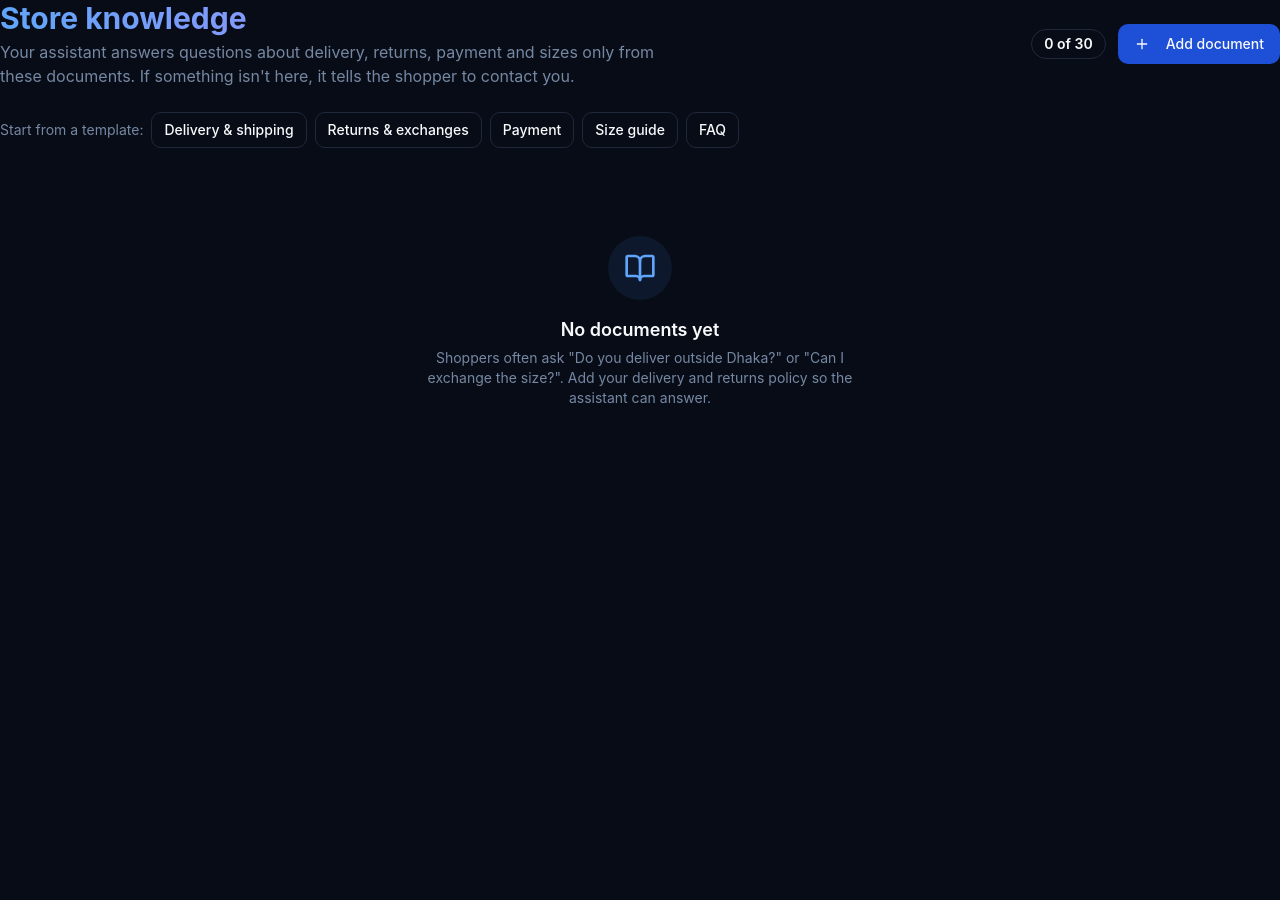
Test: StoreKnowledgeView › won't save a template until the placeholders are replaced
The image size is (1280, 900).
Later steps or results of the test are not shown.
Click the button "Returns & exchanges" at [398, 130], box [315,112,482,148]
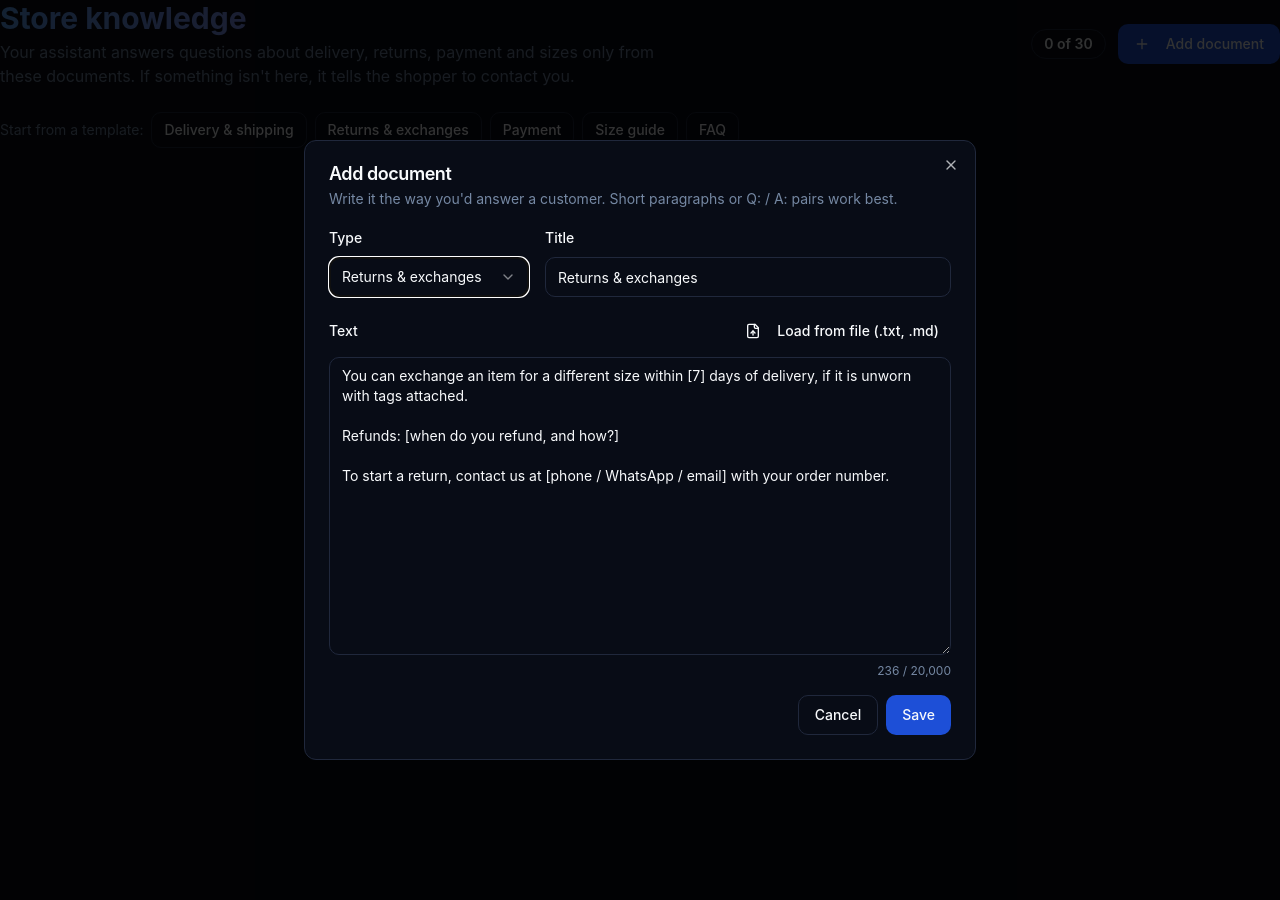
Expected: the field labelled "Title" holds "Returns & exchanges", [545,257,951,297]
Click the button "Save" at [919, 715], box [886,695,951,735]
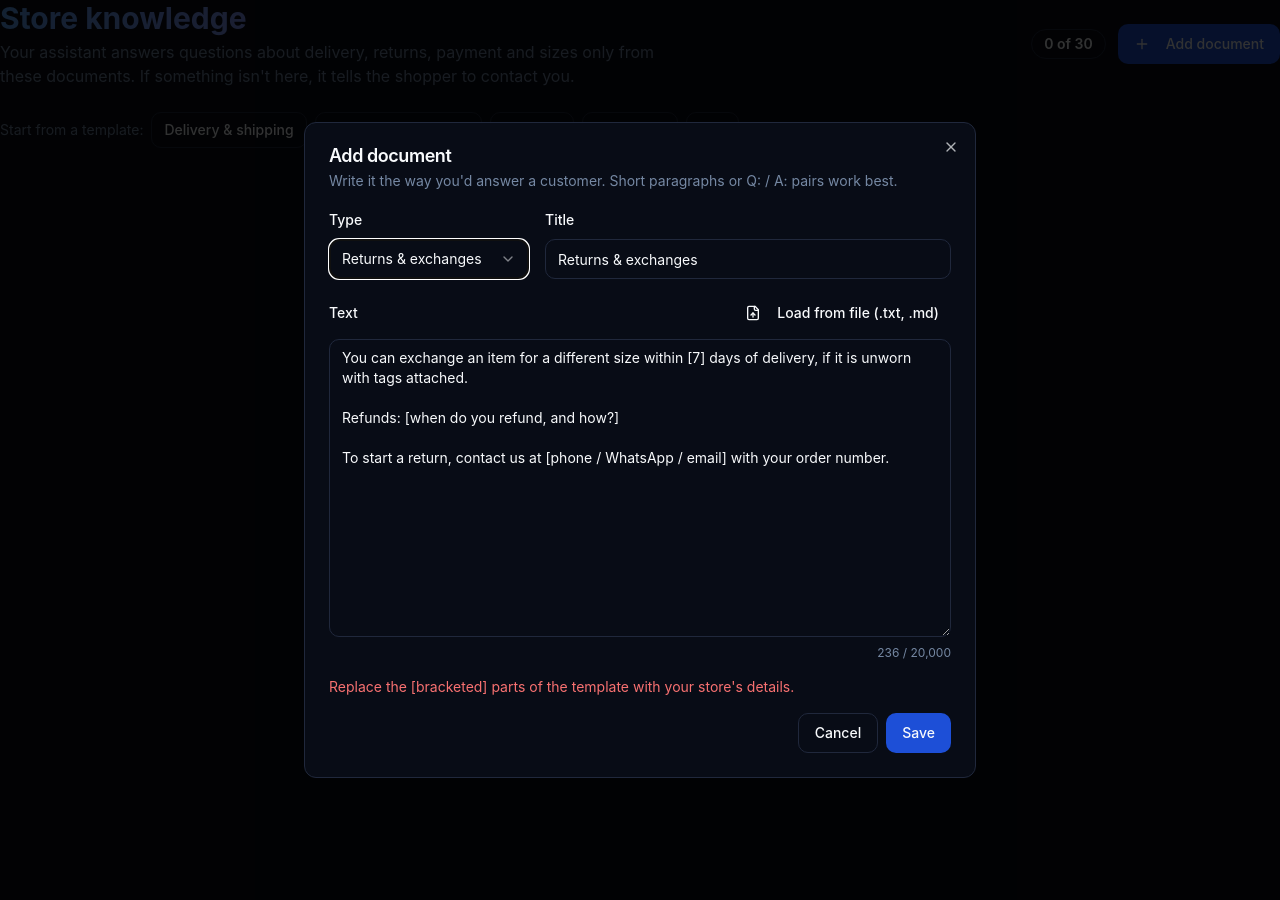
Expected: the message shows "bracketed", [329,678,794,695]
